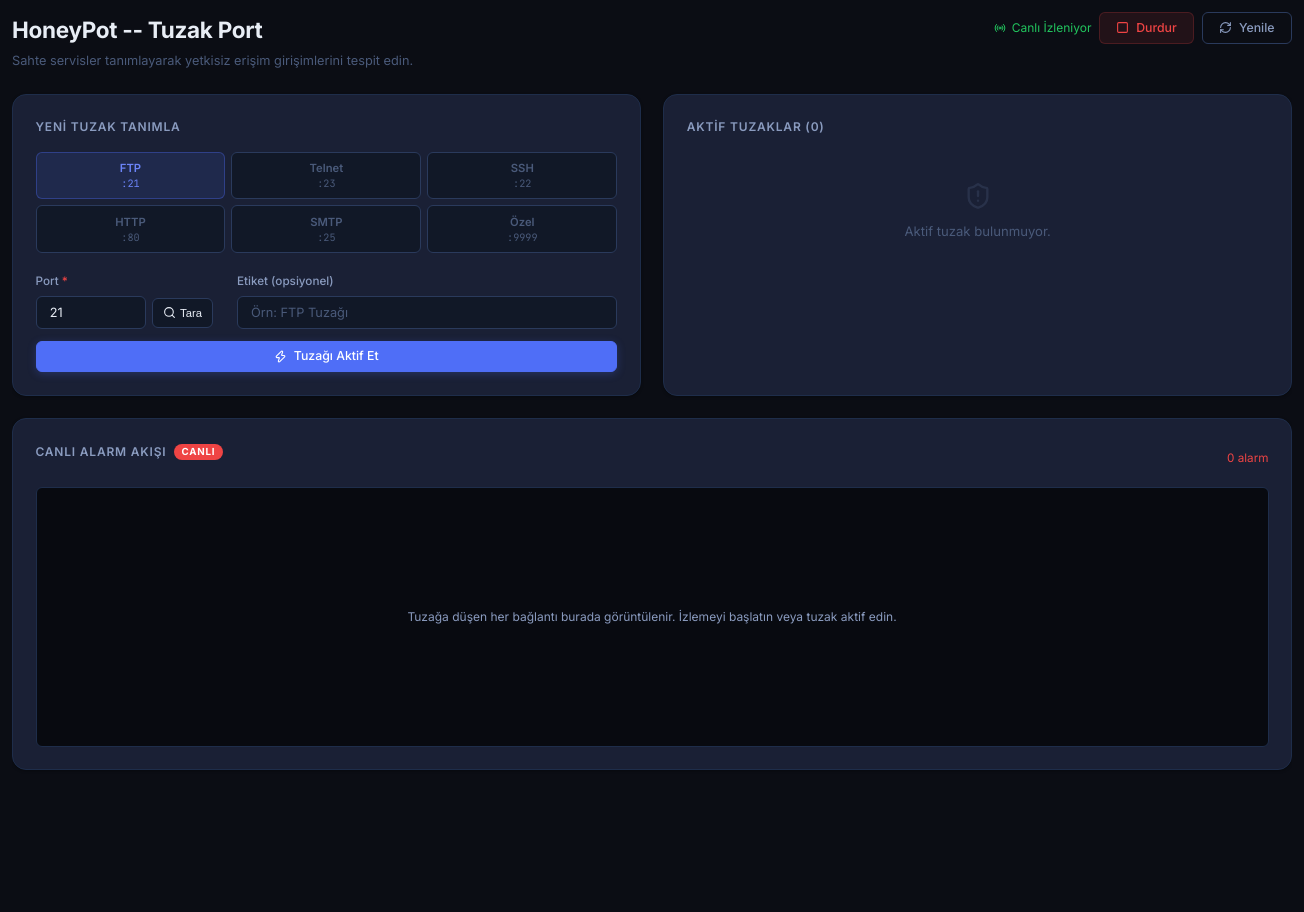
Scenario: HoneypotView Bileşeni › dolu 1024 altı port (SSH 22) butonu engelliyor
Click the button "SSH :22" at (522, 176), box x1=427 y1=152 x2=617 y2=199
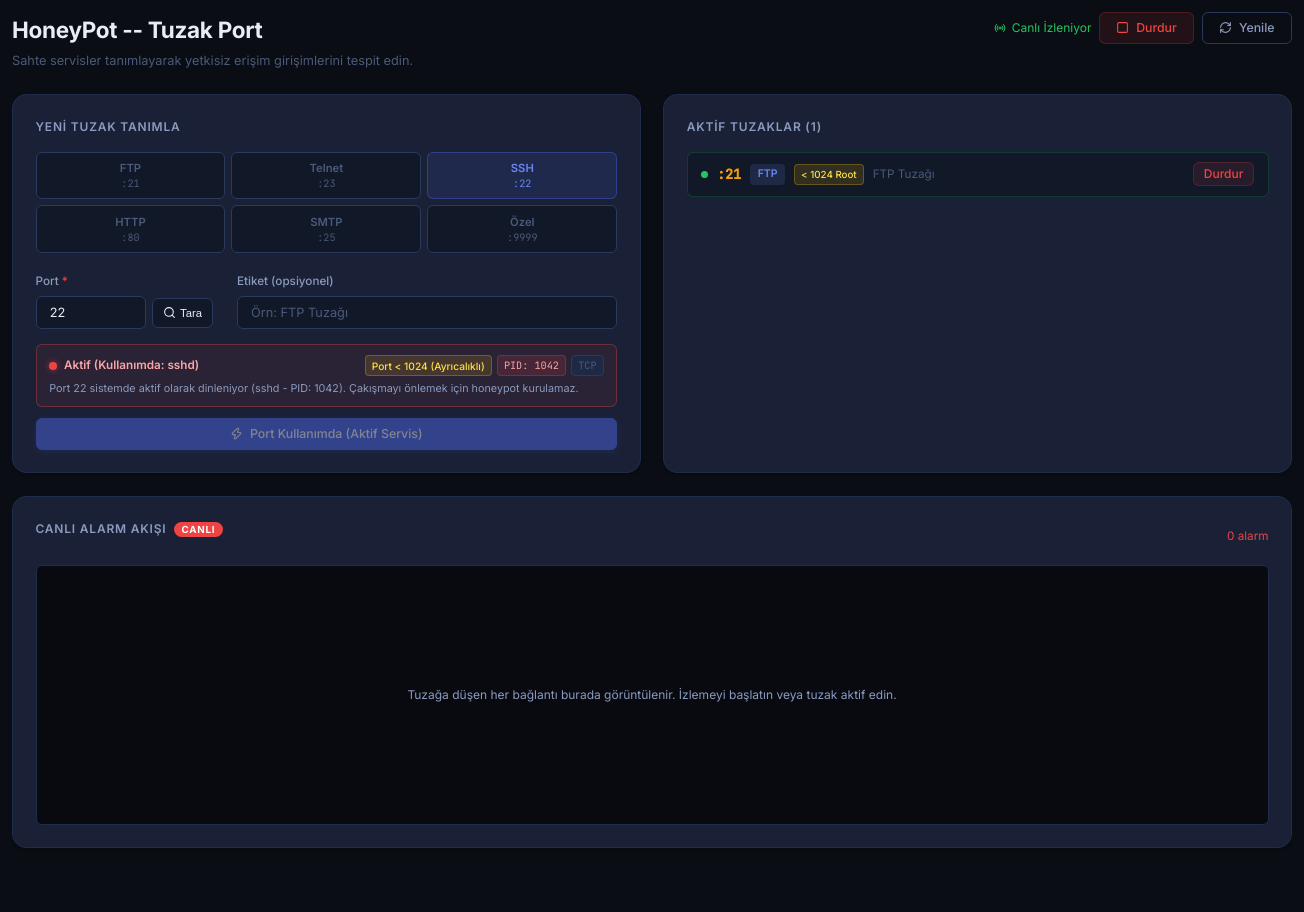
Expected: the text "Aktif (Kullanımda: sshd)" is shown, x1=64 y1=356 x2=199 y2=375
Expected: the text "PID: 1042" is shown, x1=497 y1=355 x2=566 y2=376
Expected: the button "Port Kullanımda (Aktif Servis)" is disabled, x1=36 y1=418 x2=617 y2=450
